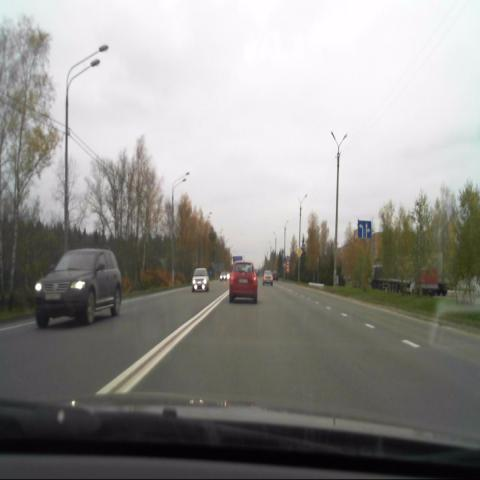5_15_2_2: (358, 219, 372, 241)
